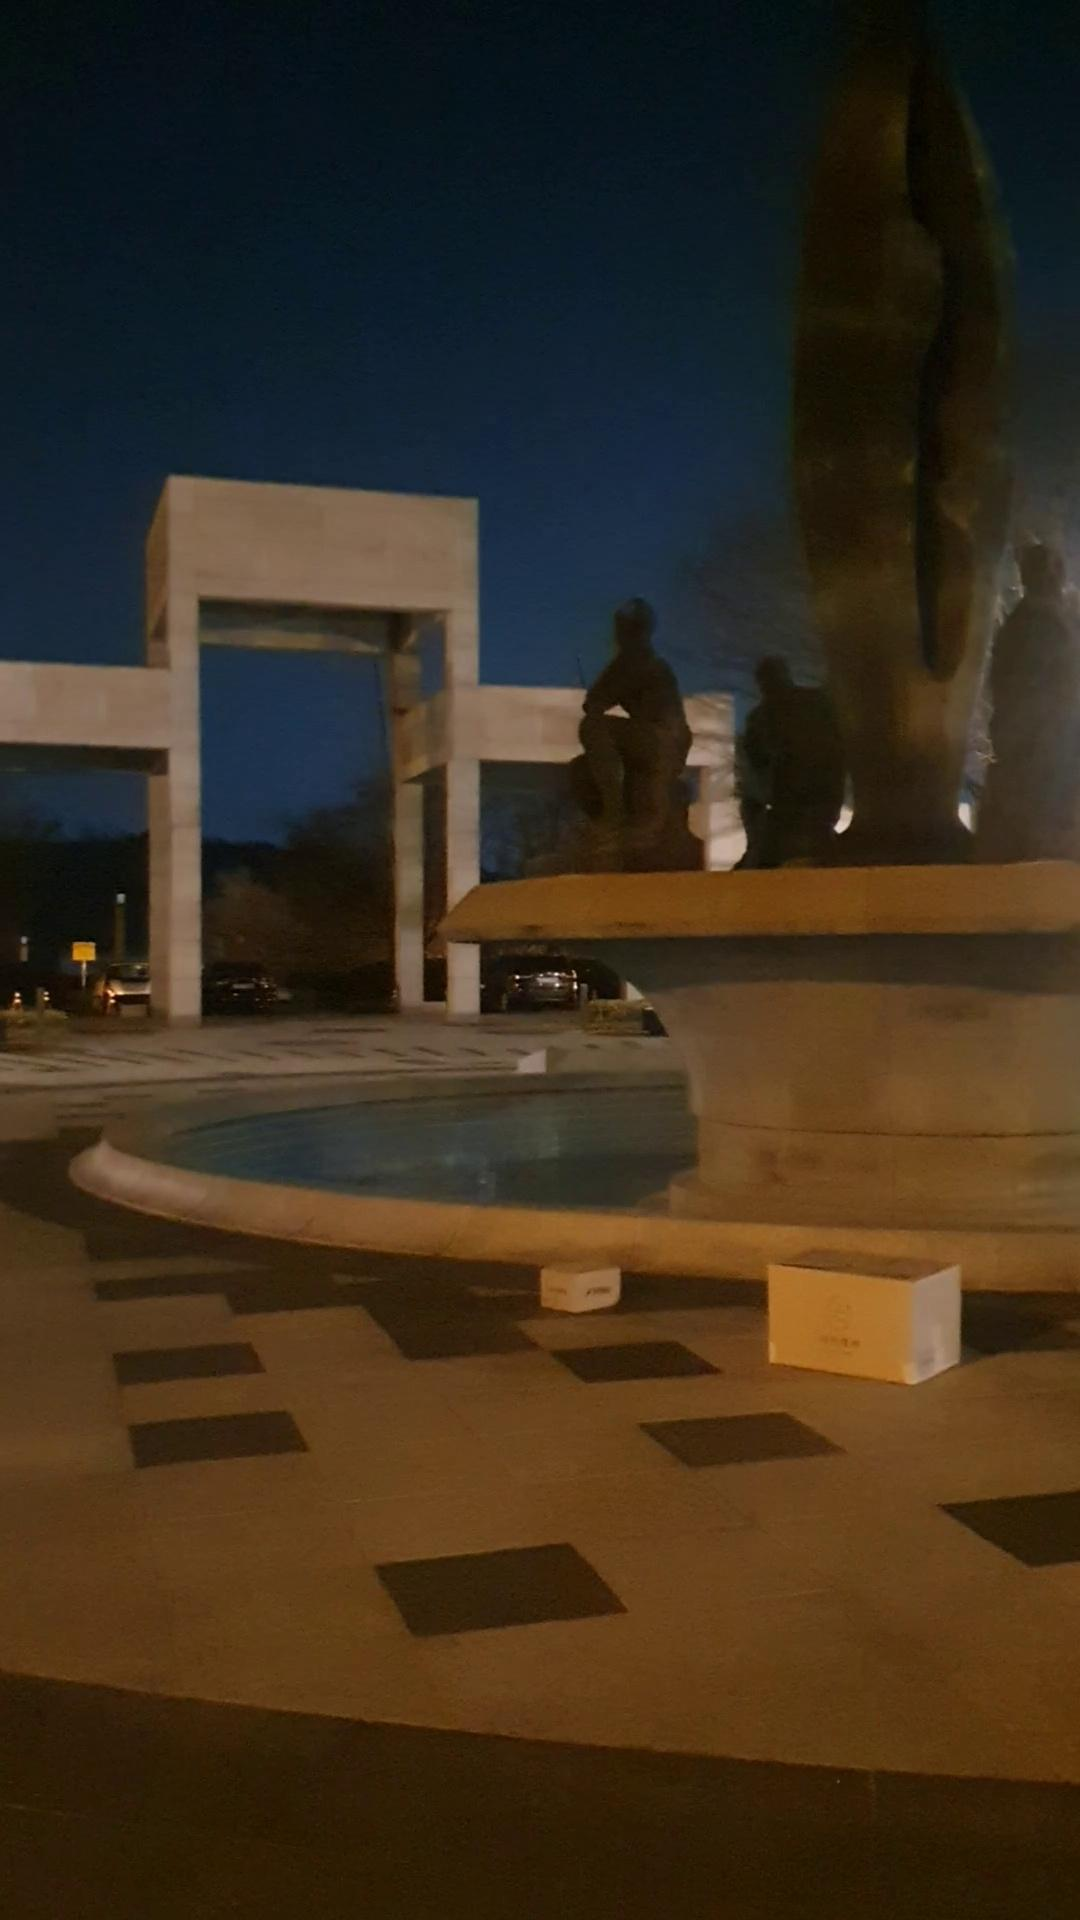Box: (741, 1233, 972, 1403), (524, 1247, 632, 1325)
